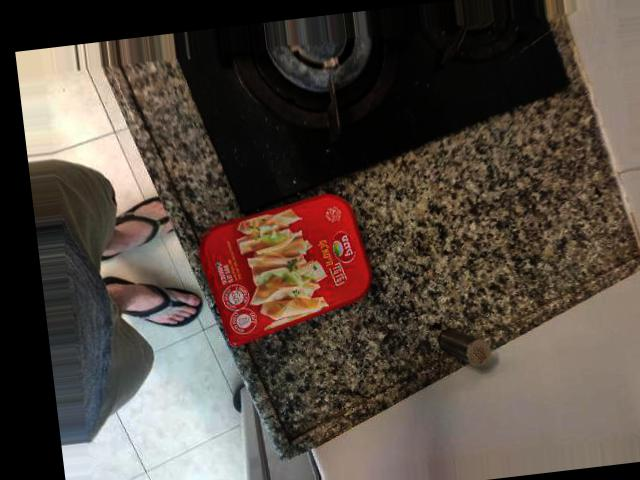cheese: (329, 169, 495, 323)
